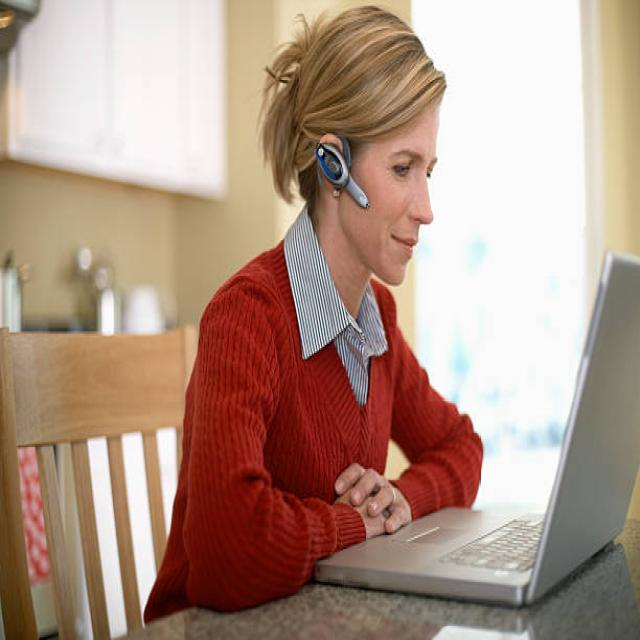airpods: (316, 130, 372, 213)
